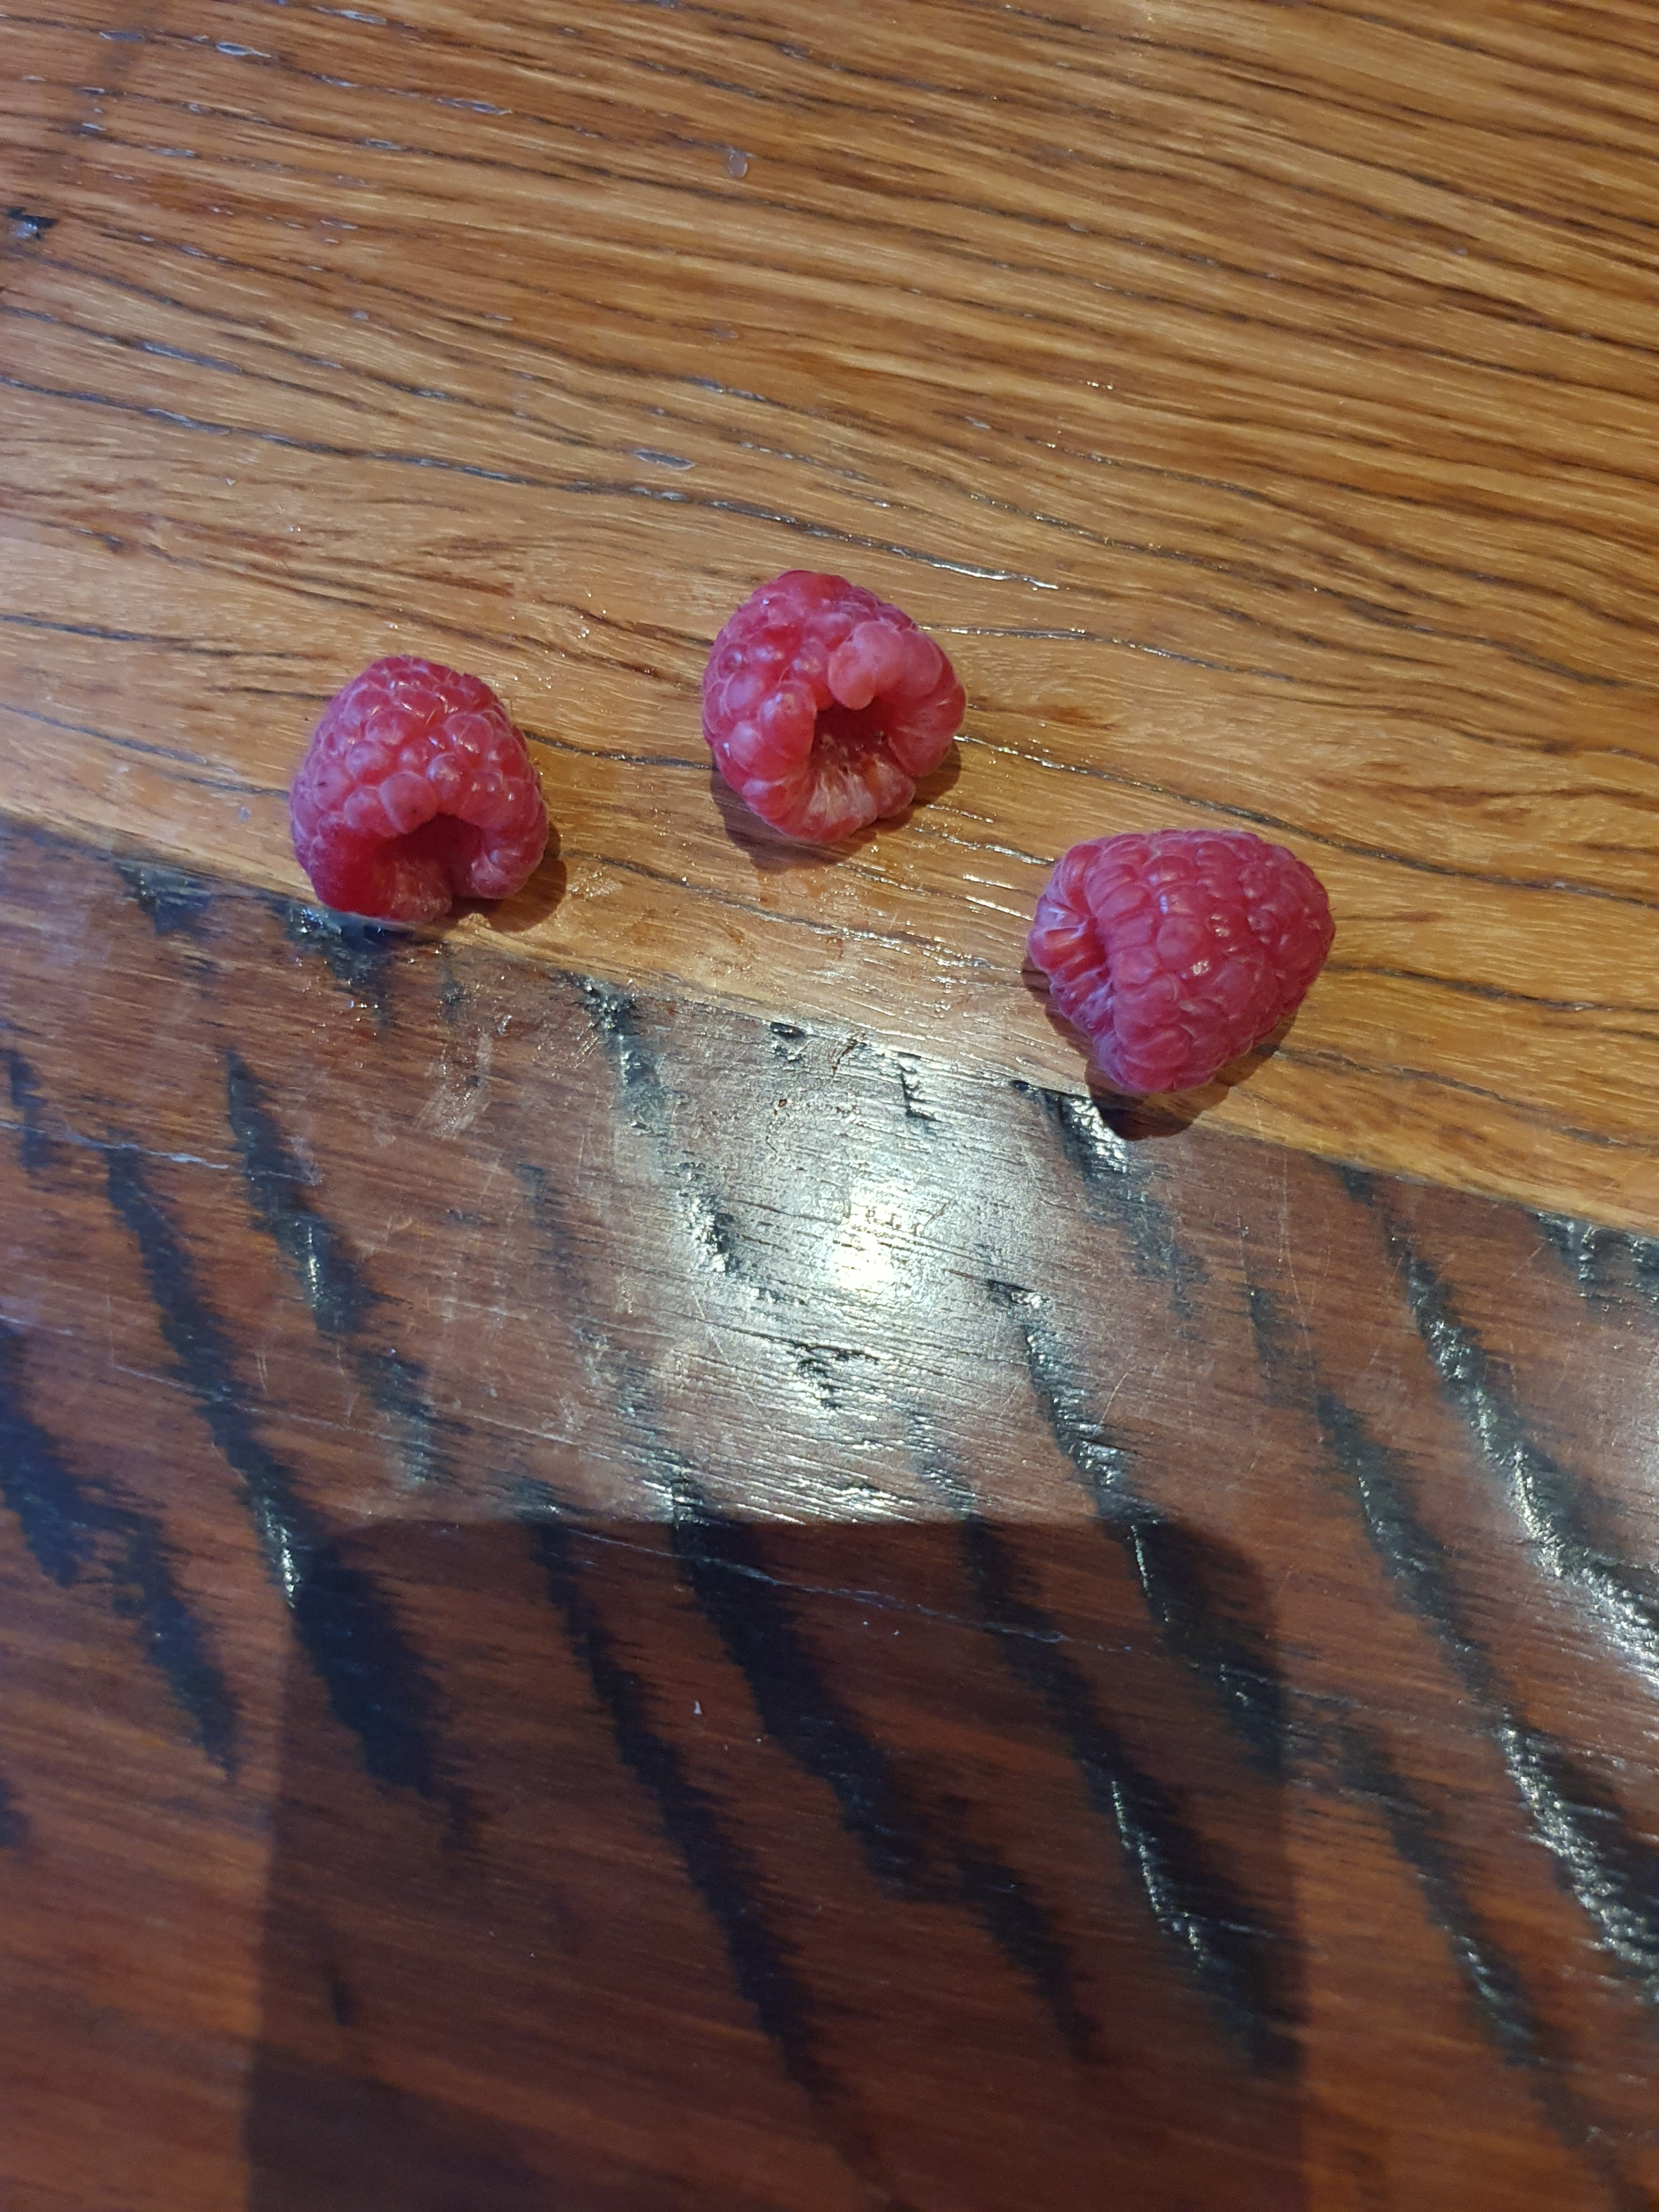raspberry: (1004, 794, 1338, 1118), (666, 533, 978, 866), (251, 601, 565, 927)
